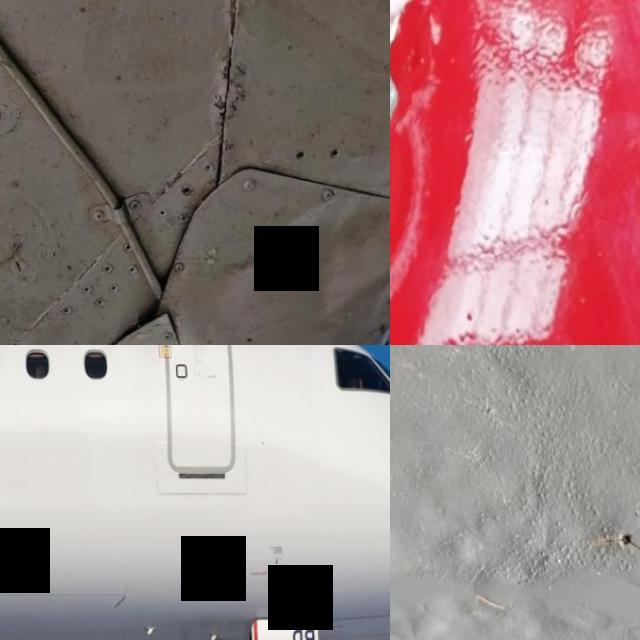Crack: (390, 0, 478, 345), (582, 519, 640, 570), (106, 594, 124, 611)
Dent: (189, 106, 390, 345)
